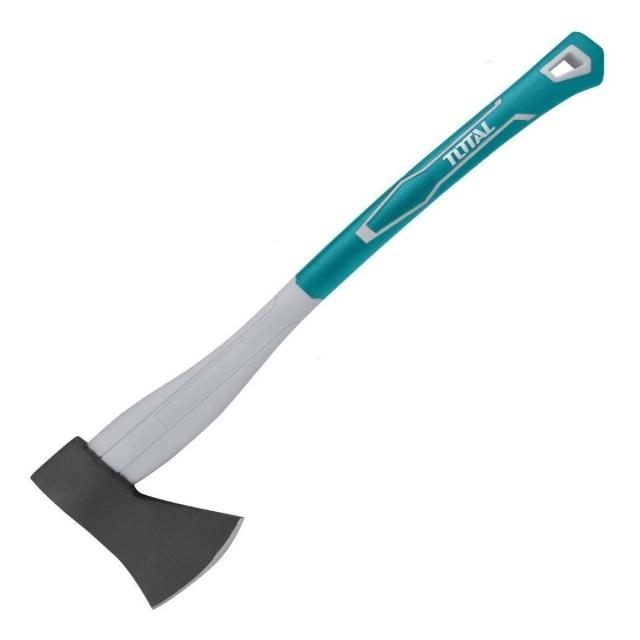Kapak: (47, 42, 602, 594)
